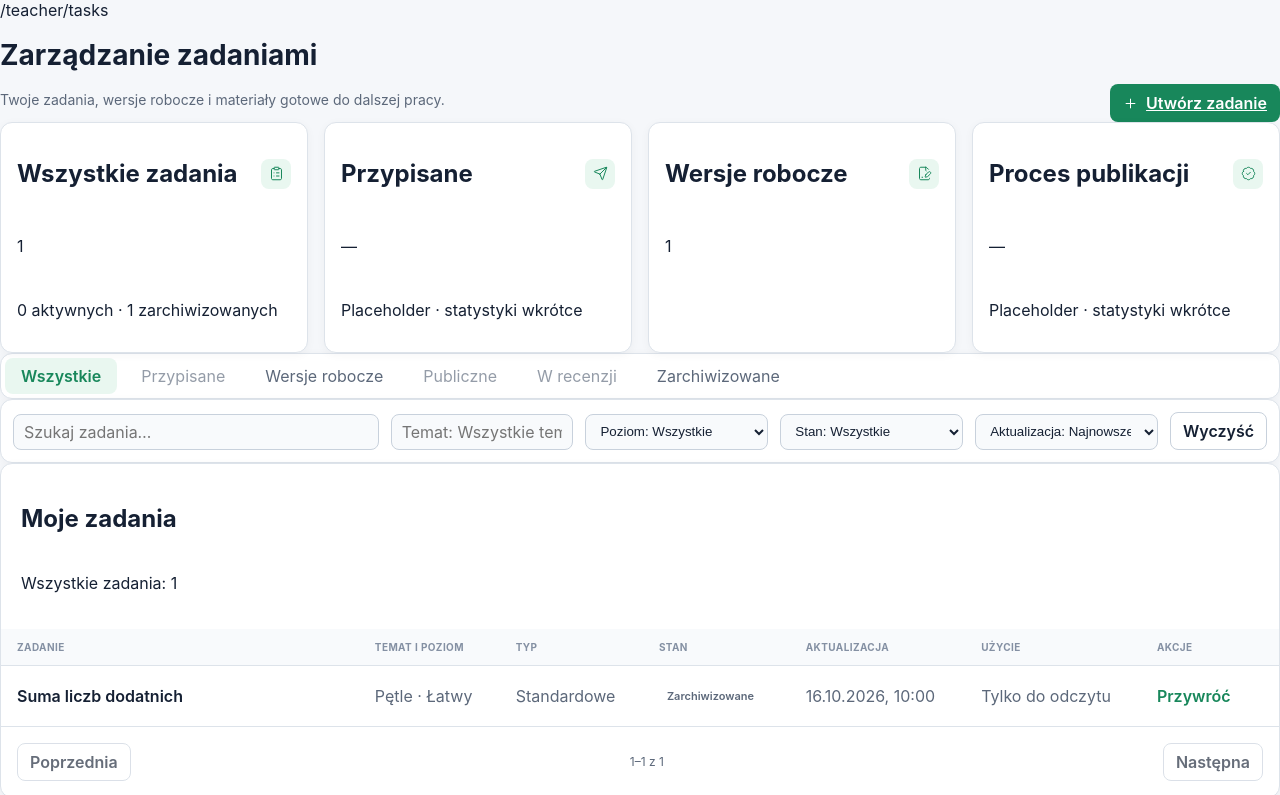
filters archives, restores and removes the row from archives, then shows it in all tasks
Expected: the table is shown, [1,629,1279,726]
Step 1. Click the button "Zarchiwizowane" → (718, 376), box [641,358,796,394]
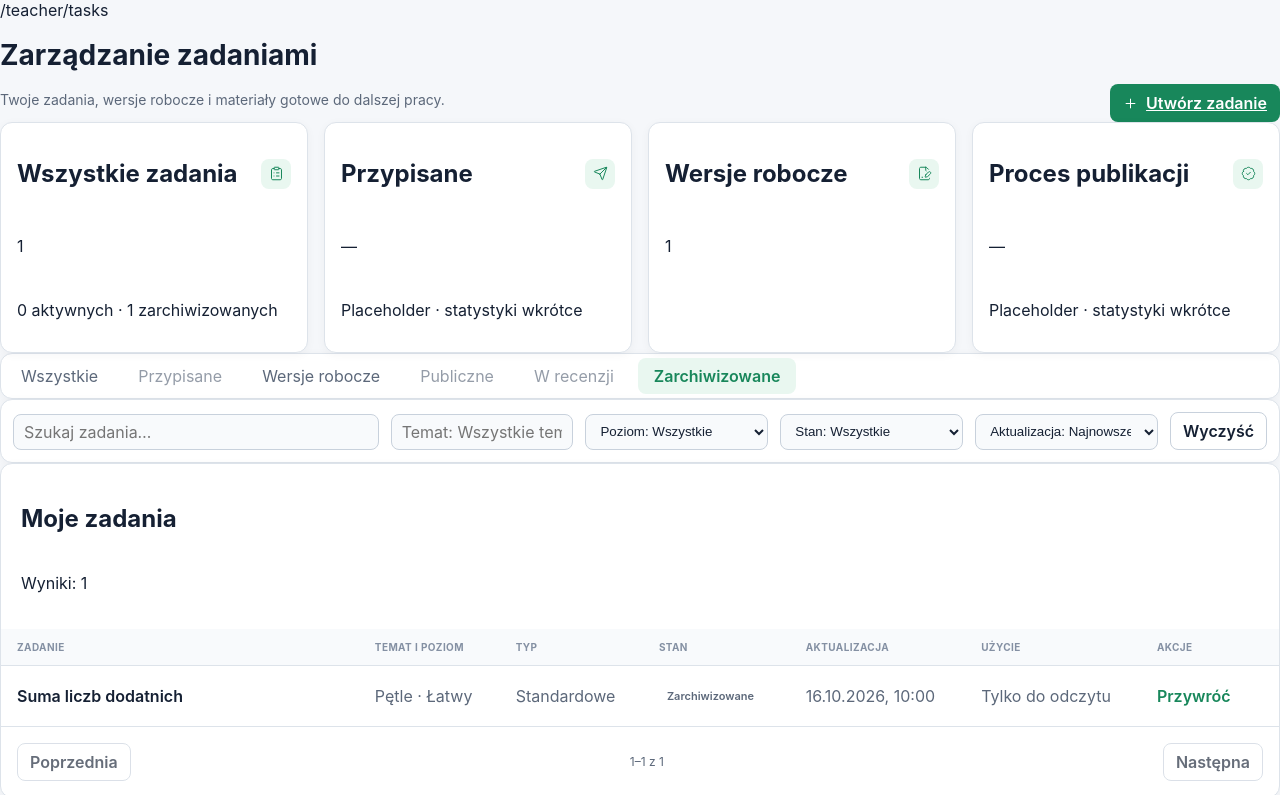
Step 2. Click the button "Przywróć" → (1194, 696), box [1157,680,1230,712]
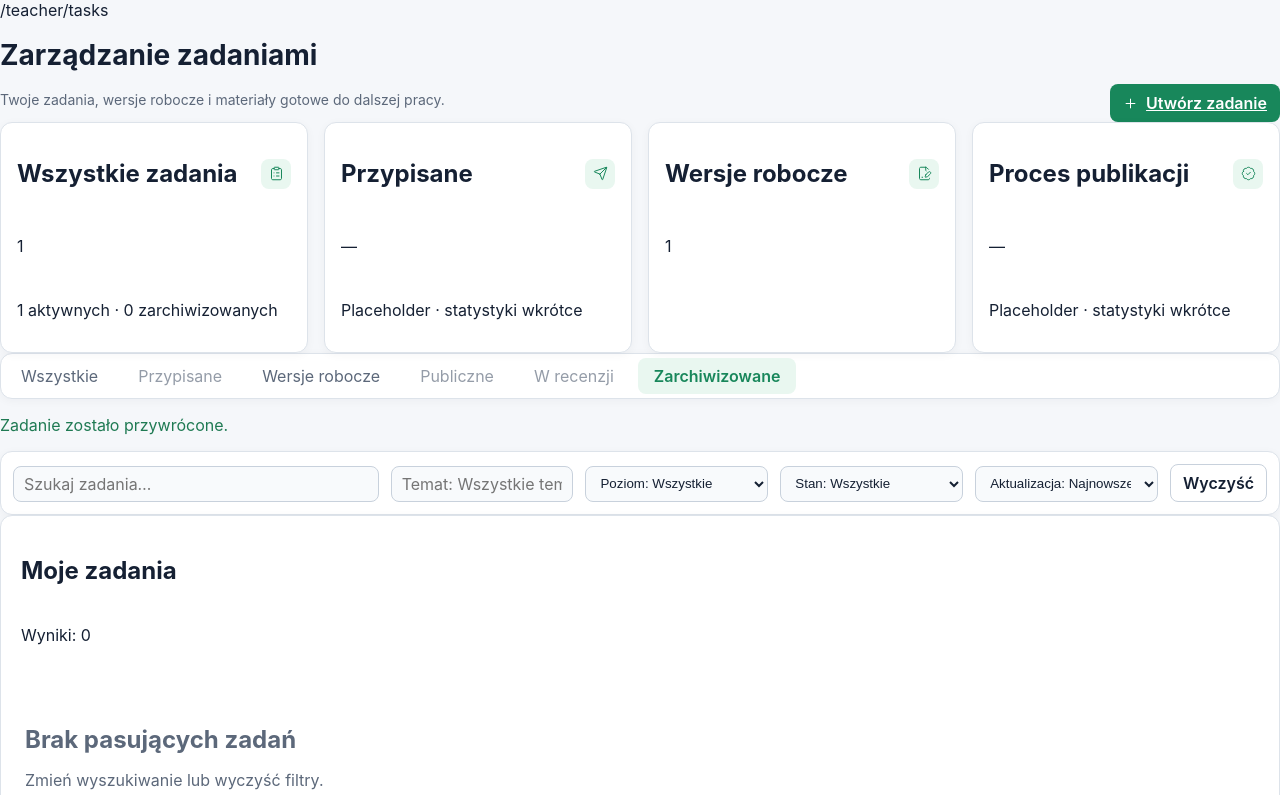
Now the heading "Brak pasujących zadań" is shown, box [25,725,296,754]
Step 3. Click the button "Wszystkie" → (60, 376), box [5,358,114,394]
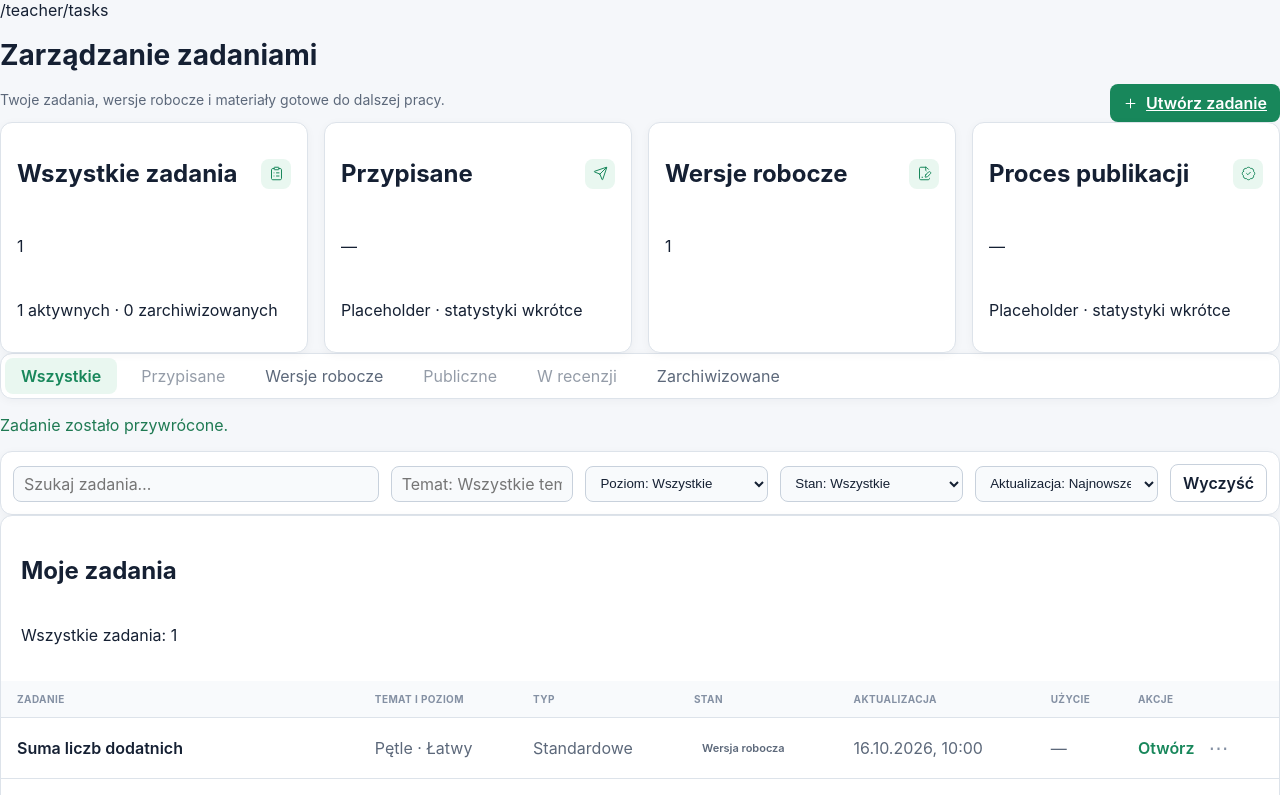
Now the table is shown, box [1,681,1279,778]
